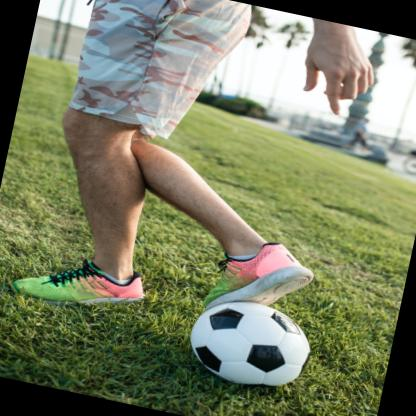ball: (180, 290, 318, 395)
